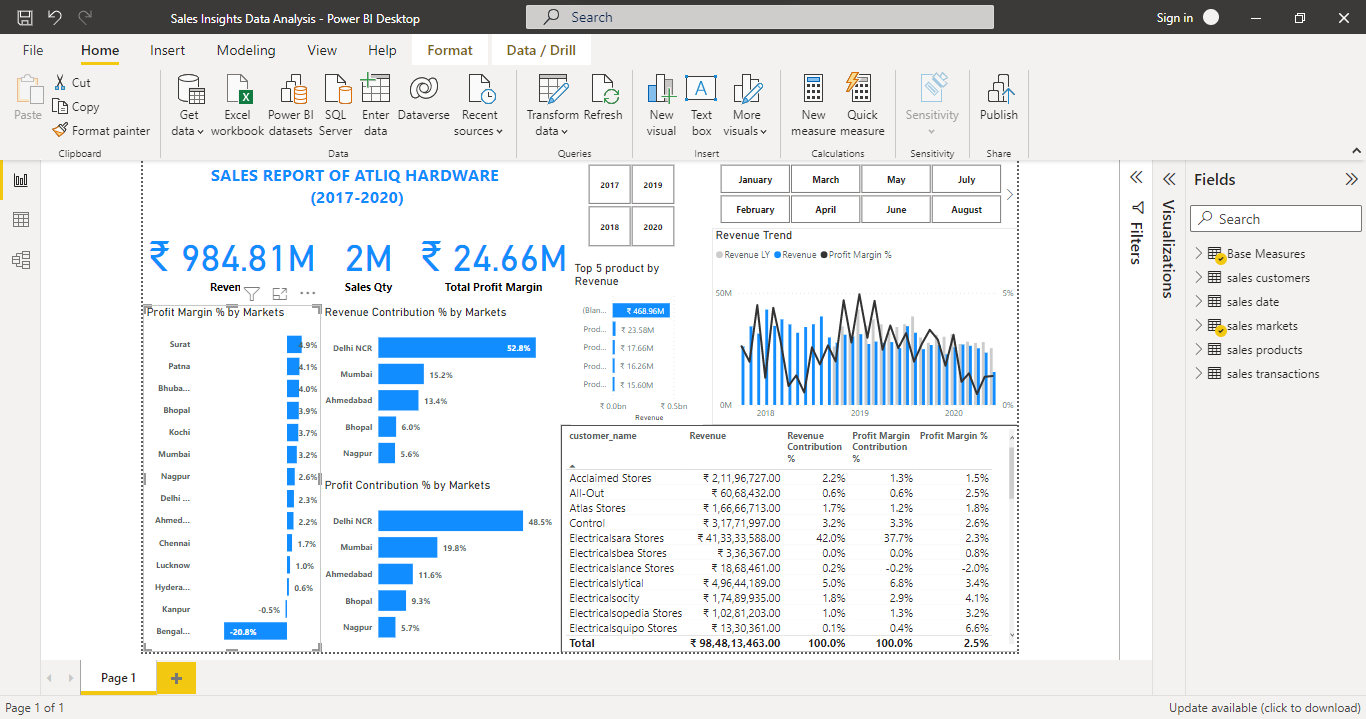

What the dashboard file says about the page in this screenshot:
{"tool":"powerbi","page":{"name":"Page 1","canvas":[1280,720],"ordinal":0},"visuals":[{"type":"card","fields":{"Values":["Base Measures.Revenue"]},"box":[0,80.5,260.5,133.2],"z":0},{"type":"card","fields":{"Values":["Base Measures.Sales quantity"]},"box":[260.5,80.5,139,133.2],"z":1000},{"type":"barChart","title":"Profit Margin % by Markets","fields":{"Category":["sales markets.markets_name"],"Y":["Base Measures.Profit Margin %"]},"box":[0,212.2,260.5,507.8],"z":2000},{"type":"barChart","title":"Profit Contribution % by Markets","fields":{"Category":["sales markets.markets_name"],"Y":["Base Measures.Profit Margin Contribution %"]},"box":[260.5,465.4,351.2,254.6],"z":3000},{"type":"lineClusteredColumnComboChart","title":"Revenue Trend","fields":{"Category":["sales date.cy_date"],"Y":["Base Measures.Revenue LY","Base Measures.Revenue"],"Y2":["Base Measures.Profit Margin %"]},"box":[833.2,99.1,446.8,288.9],"z":4000},{"type":"slicer","fields":{"Values":["sales date.year"]},"box":[626.6,0,174.7,132.7],"z":5000},{"type":"slicer","fields":{"Values":["sales date.cy_date.Variation.Date Hierarchy.Month"]},"box":[819.7,0,460.3,99.1],"z":6000},{"type":"card","fields":{"Values":["Base Measures.Total Profit Margin"]},"box":[399.5,80.5,226.8,133.2],"z":7000},{"type":"barChart","title":"Revenue Contribution % by Markets","fields":{"Category":["sales markets.markets_name"],"Y":["Base Measures.Revenue Contribution %"]},"box":[260.5,212.2,351.2,253.2],"z":8000},{"type":"actionButton","box":[0,0,100,40],"z":9000},{"type":"tableEx","fields":{"Values":["sales customers.custmer_name","Base Measures.Revenue","Base Measures.Revenue Contribution %","Base Measures.Profit Margin Contribution %","Base Measures.Profit Margin %"]},"box":[611.4,388,668.6,332.6],"z":10000},{"type":"barChart","title":"Top 5 product by Revenue","fields":{"Category":["sales products.product_code"],"Y":["Base Measures.Revenue"]},"box":[626.6,147.8,193.2,240.2],"z":11000},{"type":"textbox","box":[0,0,626.3,76.1],"z":12000}]}

Visuals, with their boxes on the page's 1280x720 design canvas (x1, y1, x2, y2). These are canvas units, not pixel positions in the 1366x719 screenshot, which may show the page scaled, cropped or inside an application window:
card - Base Measures.Revenue: Rect(0, 80, 260, 214)
card - Base Measures.Sales quantity: Rect(260, 80, 400, 214)
"Profit Margin % by Markets" barChart: Rect(0, 212, 260, 720)
"Profit Contribution % by Markets" barChart: Rect(260, 465, 612, 720)
"Revenue Trend" lineClusteredColumnComboChart: Rect(833, 99, 1280, 388)
slicer - sales date.year: Rect(627, 0, 801, 133)
slicer - sales date.cy_date.Variation.Date Hierarchy.Month: Rect(820, 0, 1280, 99)
card - Base Measures.Total Profit Margin: Rect(400, 80, 626, 214)
"Revenue Contribution % by Markets" barChart: Rect(260, 212, 612, 465)
actionButton: Rect(0, 0, 100, 40)
tableEx - sales customers.custmer_name x Base Measures.Revenue: Rect(611, 388, 1280, 721)
"Top 5 product by Revenue" barChart: Rect(627, 148, 820, 388)
textbox: Rect(0, 0, 626, 76)
